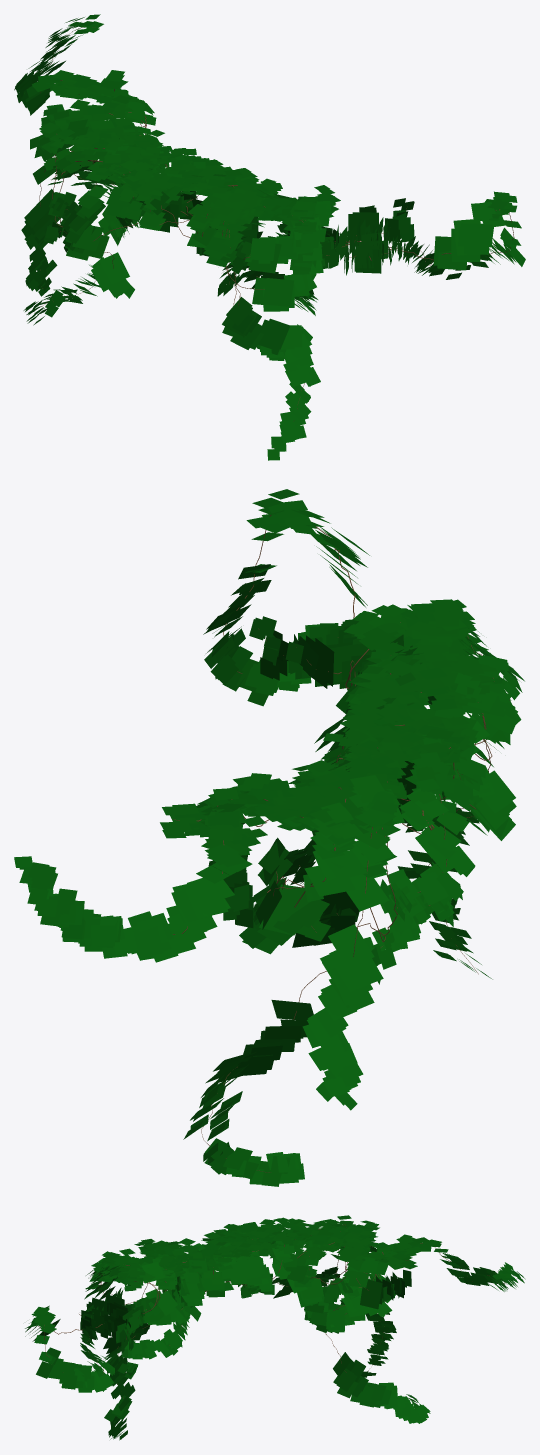
The model's file is ivy_altarbereich.fbx.
3 renders of one model, top to bottom at view 1: azimuth 30°, elevation 25°; view 2: azimuth 150°, elevation 25°; view 3: azimuth 270°, elevation 25°, orthographic. The views are drawn at different scales.
Visible parts, largest first — view 1: IvyLeaf, IVY_Curve; view 2: IvyLeaf, IVY_Curve; view 3: IvyLeaf, IVY_Curve.
Part boxes in pixels (<box>): IvyLeaf: <box>14,14,525,460</box>; IVY_Curve: <box>39,27,514,421</box>; IvyLeaf: <box>14,489,524,1186</box>; IVY_Curve: <box>172,515,509,1172</box>; IvyLeaf: <box>25,1215,525,1440</box>; IVY_Curve: <box>38,1224,505,1404</box>.
Size of the model in its own units: 150 by 117 by 272.
